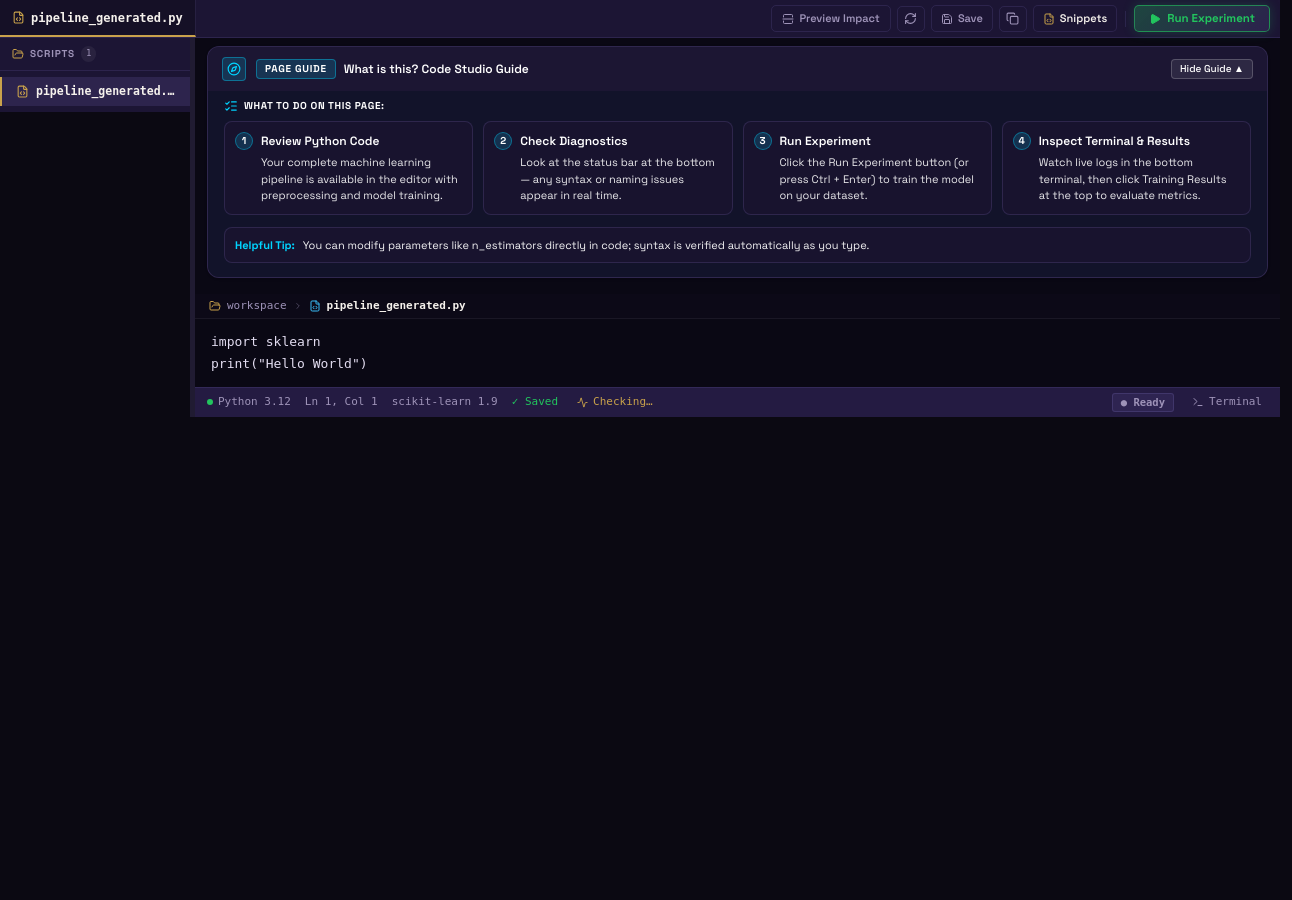
Phase 3: Execution Sandbox & Output Streaming Integration › renders timeout and out_of_memory exit codes honestly
The image size is (1292, 900).
Click the button with aria-label "run code".
click(1202, 19)  # box 1134,5 -> 1270,32
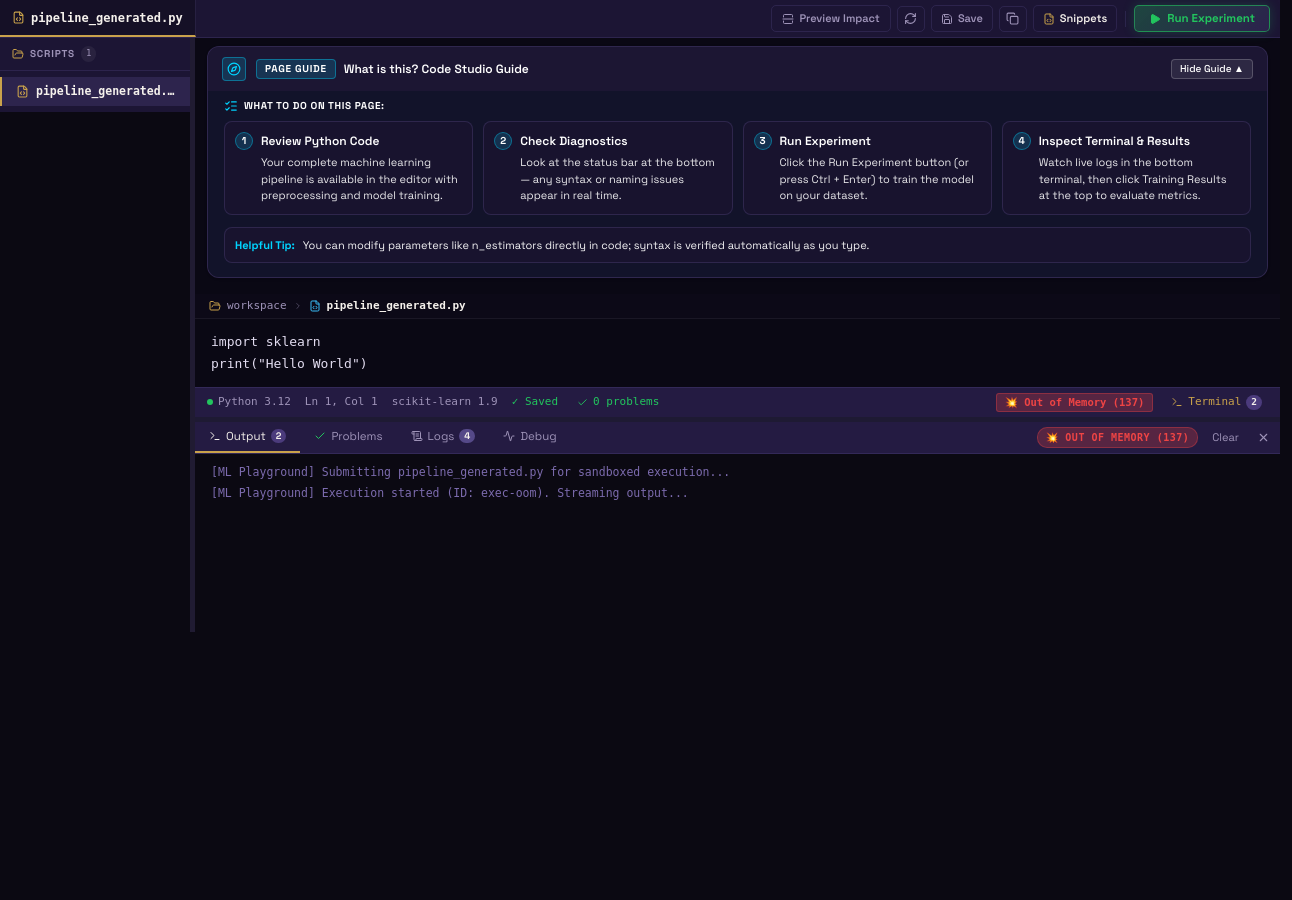
Expected: the text "💥 Out of Memory (137)" is shown, 996,392 -> 1153,412
